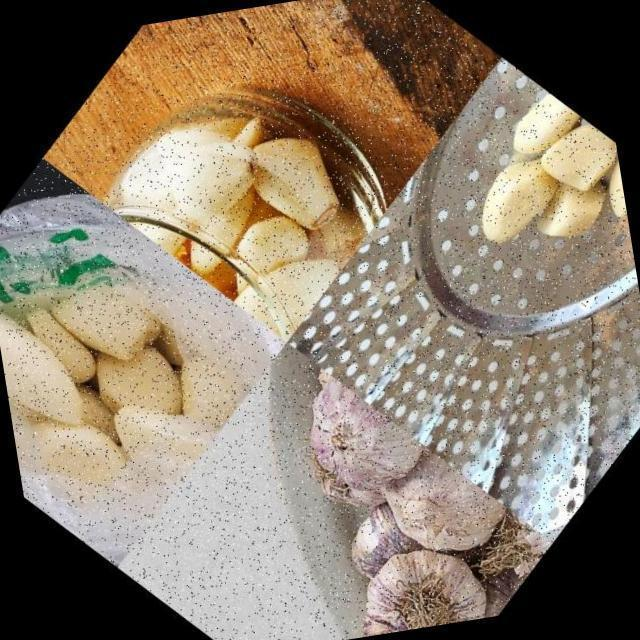garlic: (85, 41, 409, 366), (0, 204, 242, 536), (410, 58, 640, 326), (357, 428, 518, 590), (282, 369, 436, 524), (322, 514, 511, 640), (422, 532, 547, 626), (450, 484, 558, 590)
